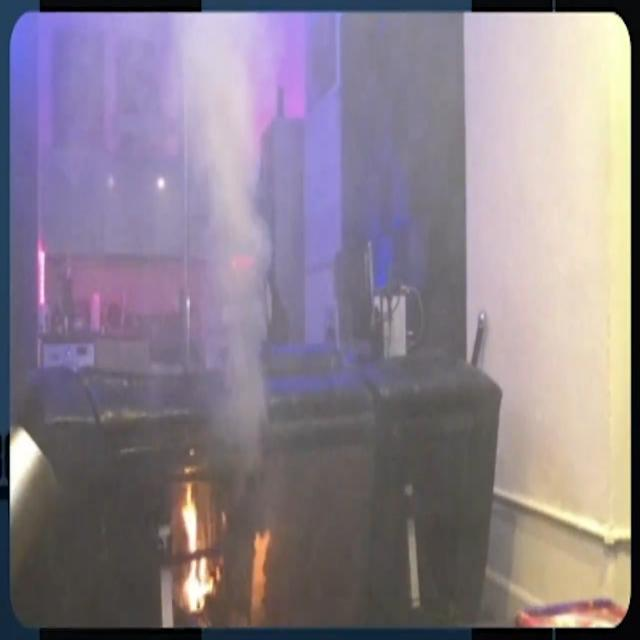Fire: (174, 485, 220, 617)
Smoke: (176, 18, 284, 450)
